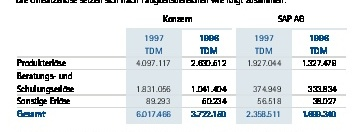table: (0, 0, 361, 132)
